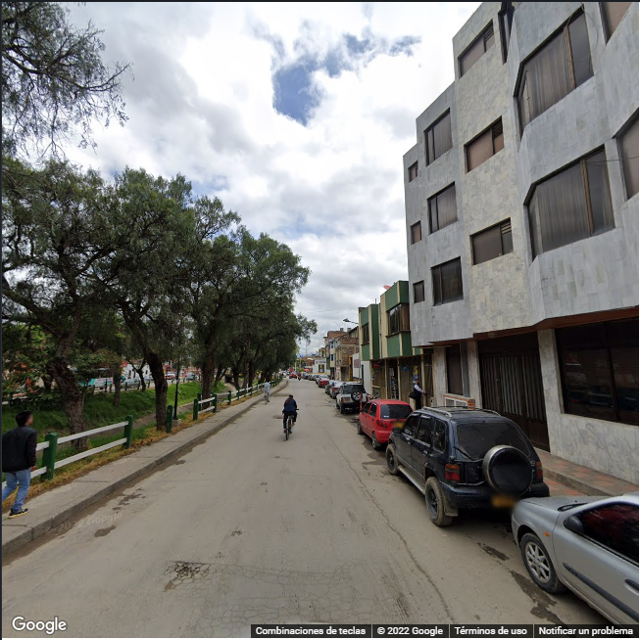D20: (193, 567, 358, 633)
D40: (164, 558, 207, 587)
